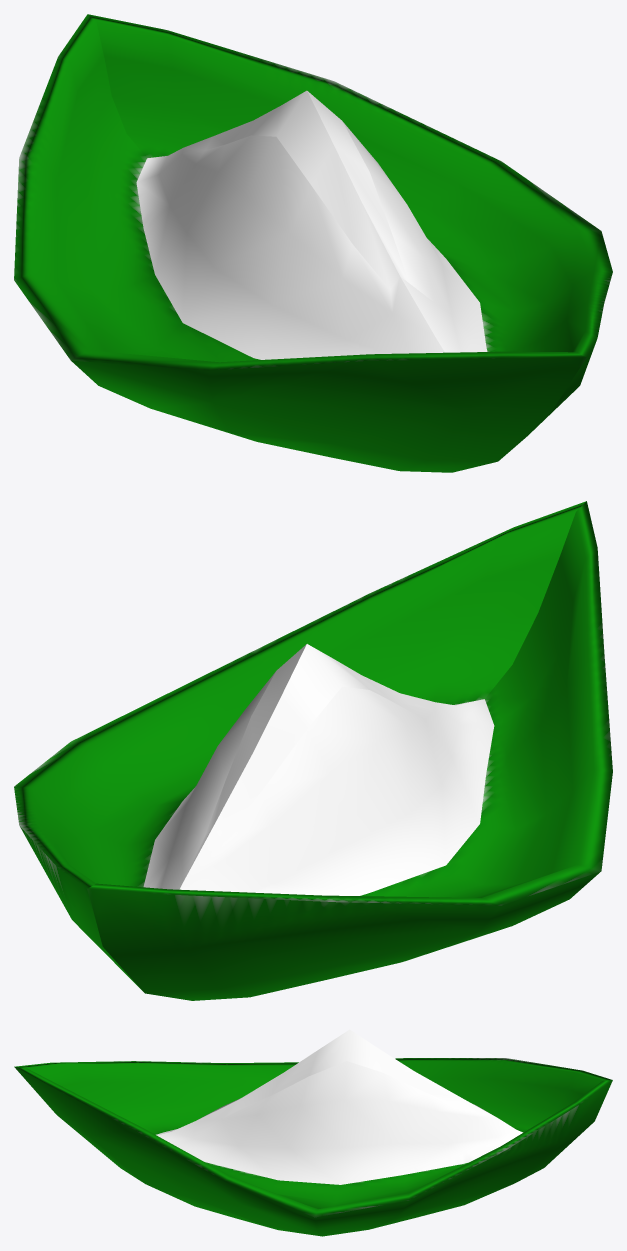
Rendered from GreenBoat.fbx.
3 views of the same model, one above another, from view 1: azimuth 30°, elevation 25°; view 2: azimuth 150°, elevation 25°; view 3: azimuth 270°, elevation 25° (orthographic). The views are drawn at different scales.
Parts seen in each view (by area): view 1: polySurface1; view 2: polySurface1; view 3: polySurface1.
Part boxes in pixels (x1,y1,x2,y2): polySurface1: [14, 14, 612, 472]; polySurface1: [14, 501, 612, 1000]; polySurface1: [14, 1029, 612, 1236].
Bounding box in the file's own units: 111 × 59 × 181.
1 material, 1 textured.
